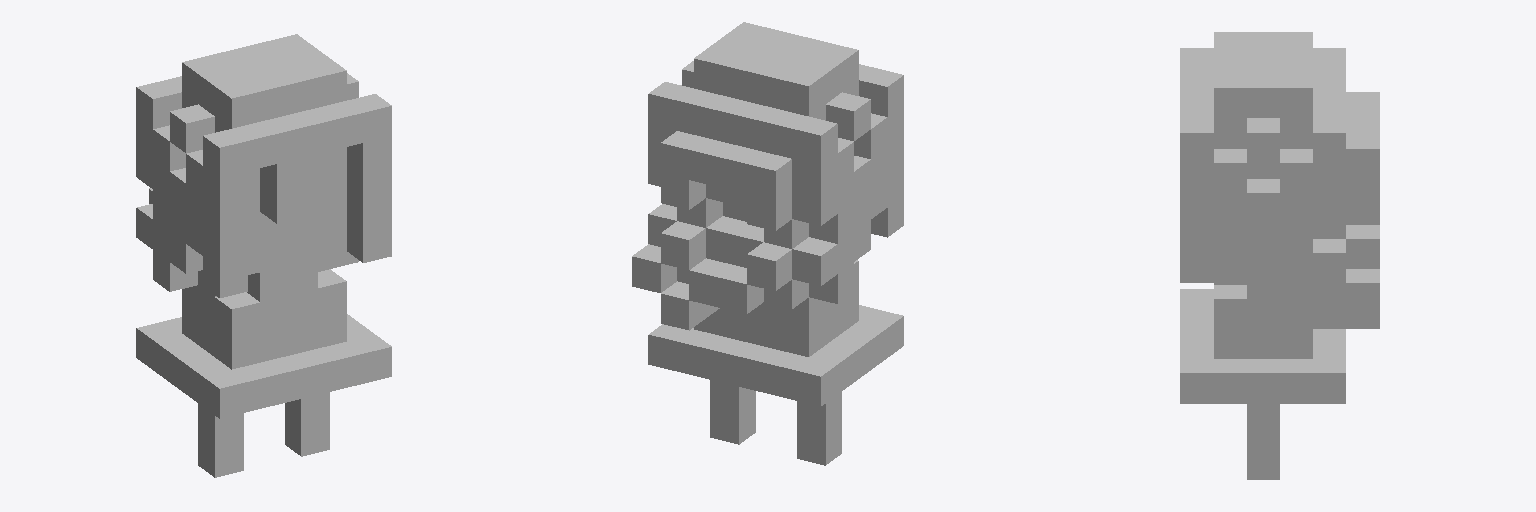
File: Girl2.obj
3 views of the same model, side by side, from view 1: azimuth 30°, elevation 25°; view 2: azimuth 150°, elevation 25°; view 3: azimuth 270°, elevation 25° (orthographic).
Parts seen in each view (by area): view 1: object 1; view 2: object 1; view 3: object 1.
Part boxes in pixels (bbox=[...]): object 1: bbox=[136, 34, 391, 477]; object 1: bbox=[632, 22, 903, 465]; object 1: bbox=[1180, 32, 1379, 479].
Bounding box in the file's own units: 0.6 × 1.3 × 0.6.